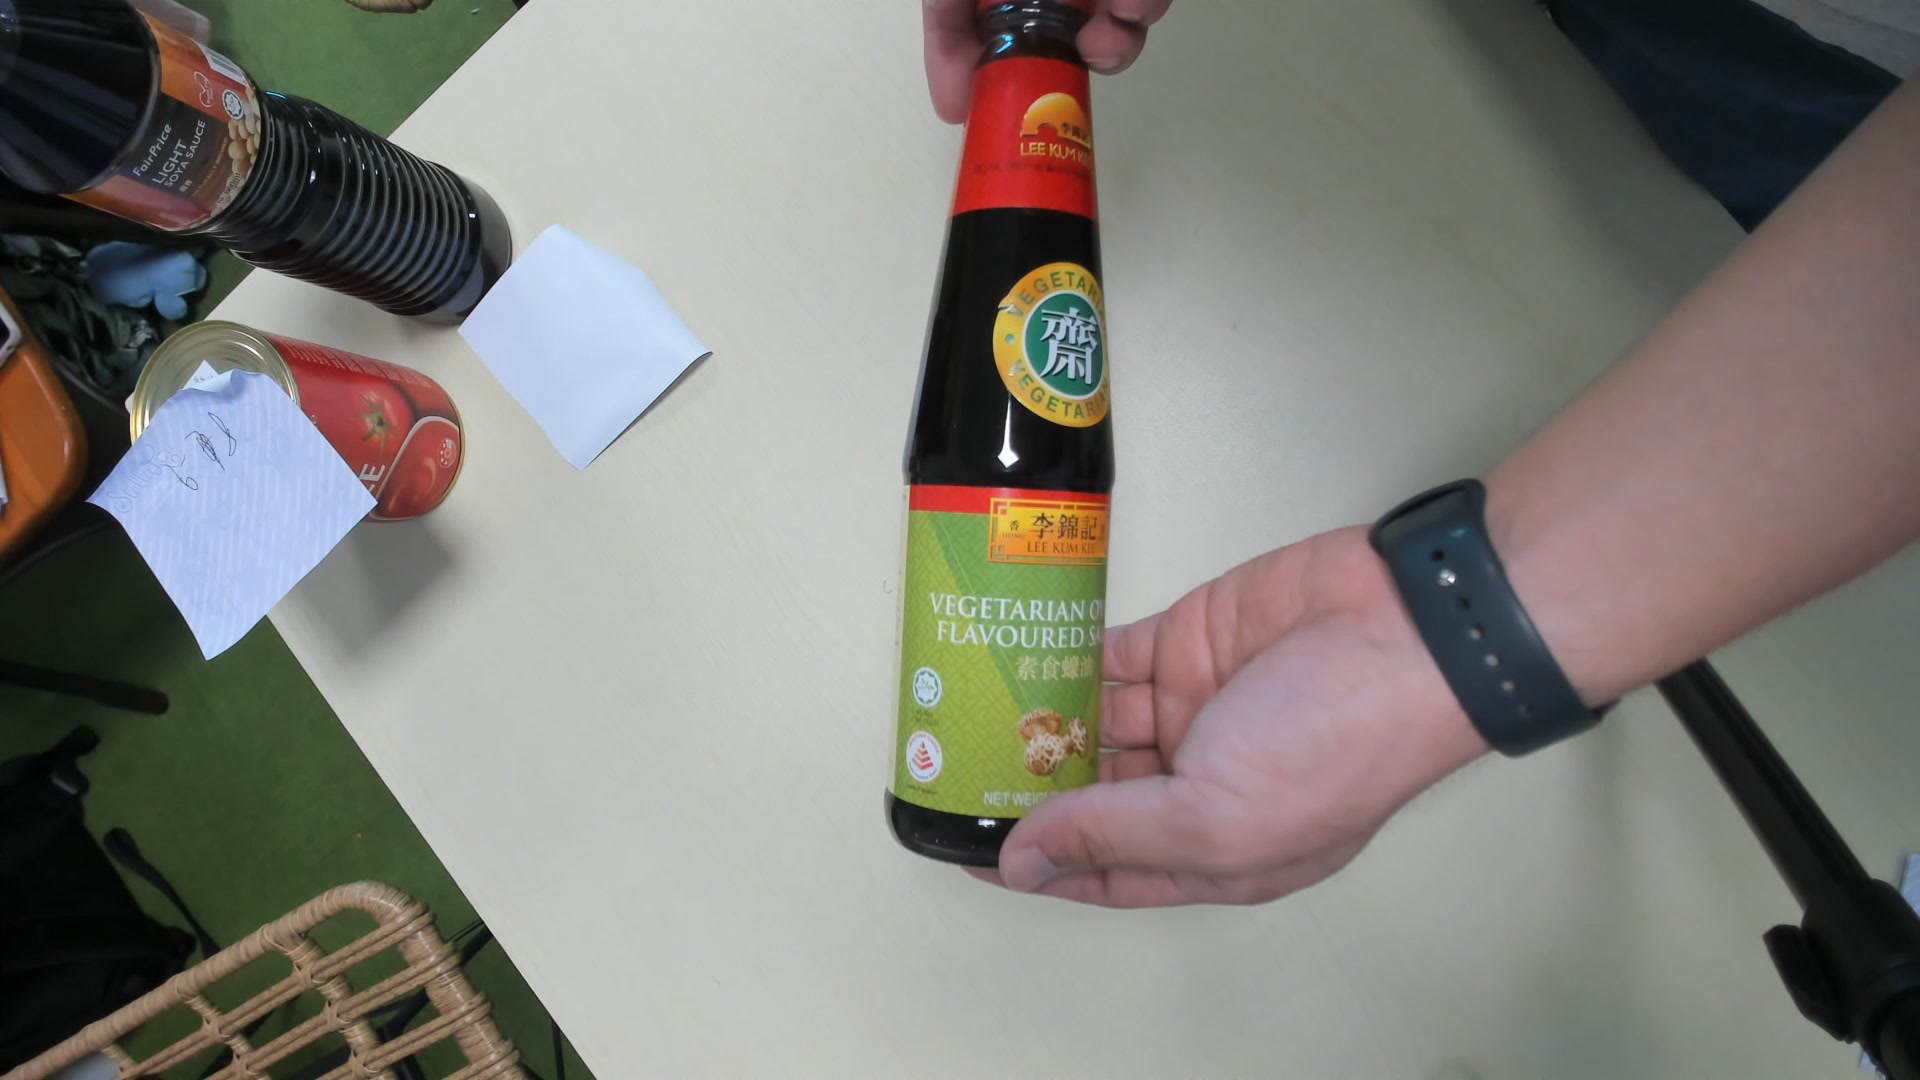OtherSauceDressingSoupbasePaste_500-599g_Halal_Healthy: (877, 3, 1104, 858)
